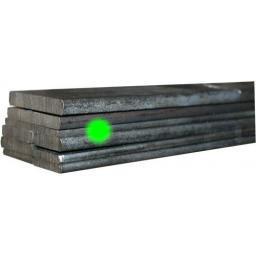focus: (84, 114, 113, 144)
